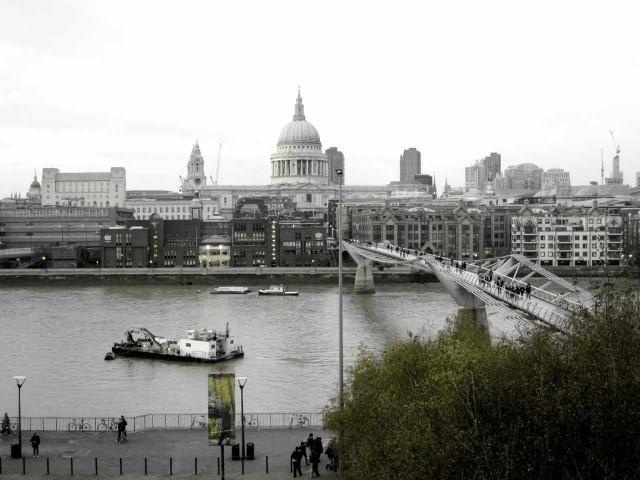non-vehicle: (287, 412, 310, 429), (96, 416, 120, 432), (237, 412, 259, 429), (65, 417, 91, 431), (189, 414, 207, 430), (0, 418, 19, 433)
